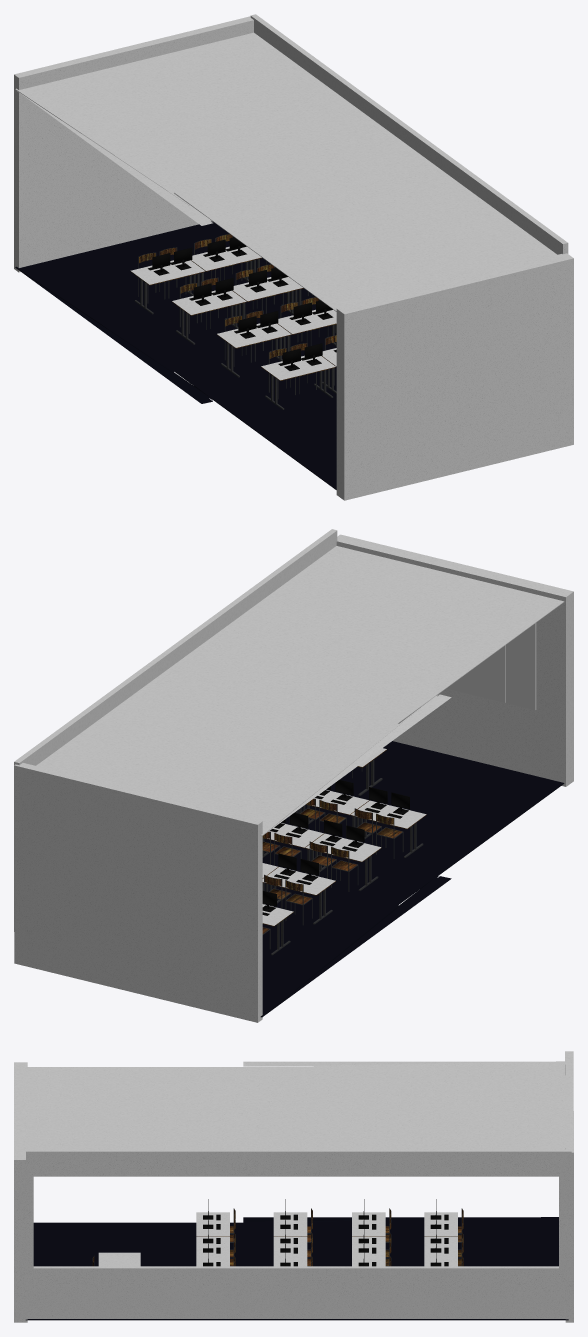
The model's file is salle_classe_haut04.obj.
The picture shows the model from 3 angles, top to bottom: view 1: azimuth 30°, elevation 25°; view 2: azimuth 150°, elevation 25°; view 3: azimuth 270°, elevation 25°; orthographic projection. The views are drawn at different scales.
Parts seen in each view (by area): view 1: plafond_classe.018; view 2: plafond_classe.018; view 3: plafond_classe.018.
Boxes of the visible parts, x1,y1,x2,y2 form: plafond_classe.018: (14, 14, 573, 500); plafond_classe.018: (14, 529, 573, 1022); plafond_classe.018: (14, 1051, 573, 1322).
Size of the model in its own units: 14.51 by 11.27 by 33.29.
6 materials, 3 textured.
